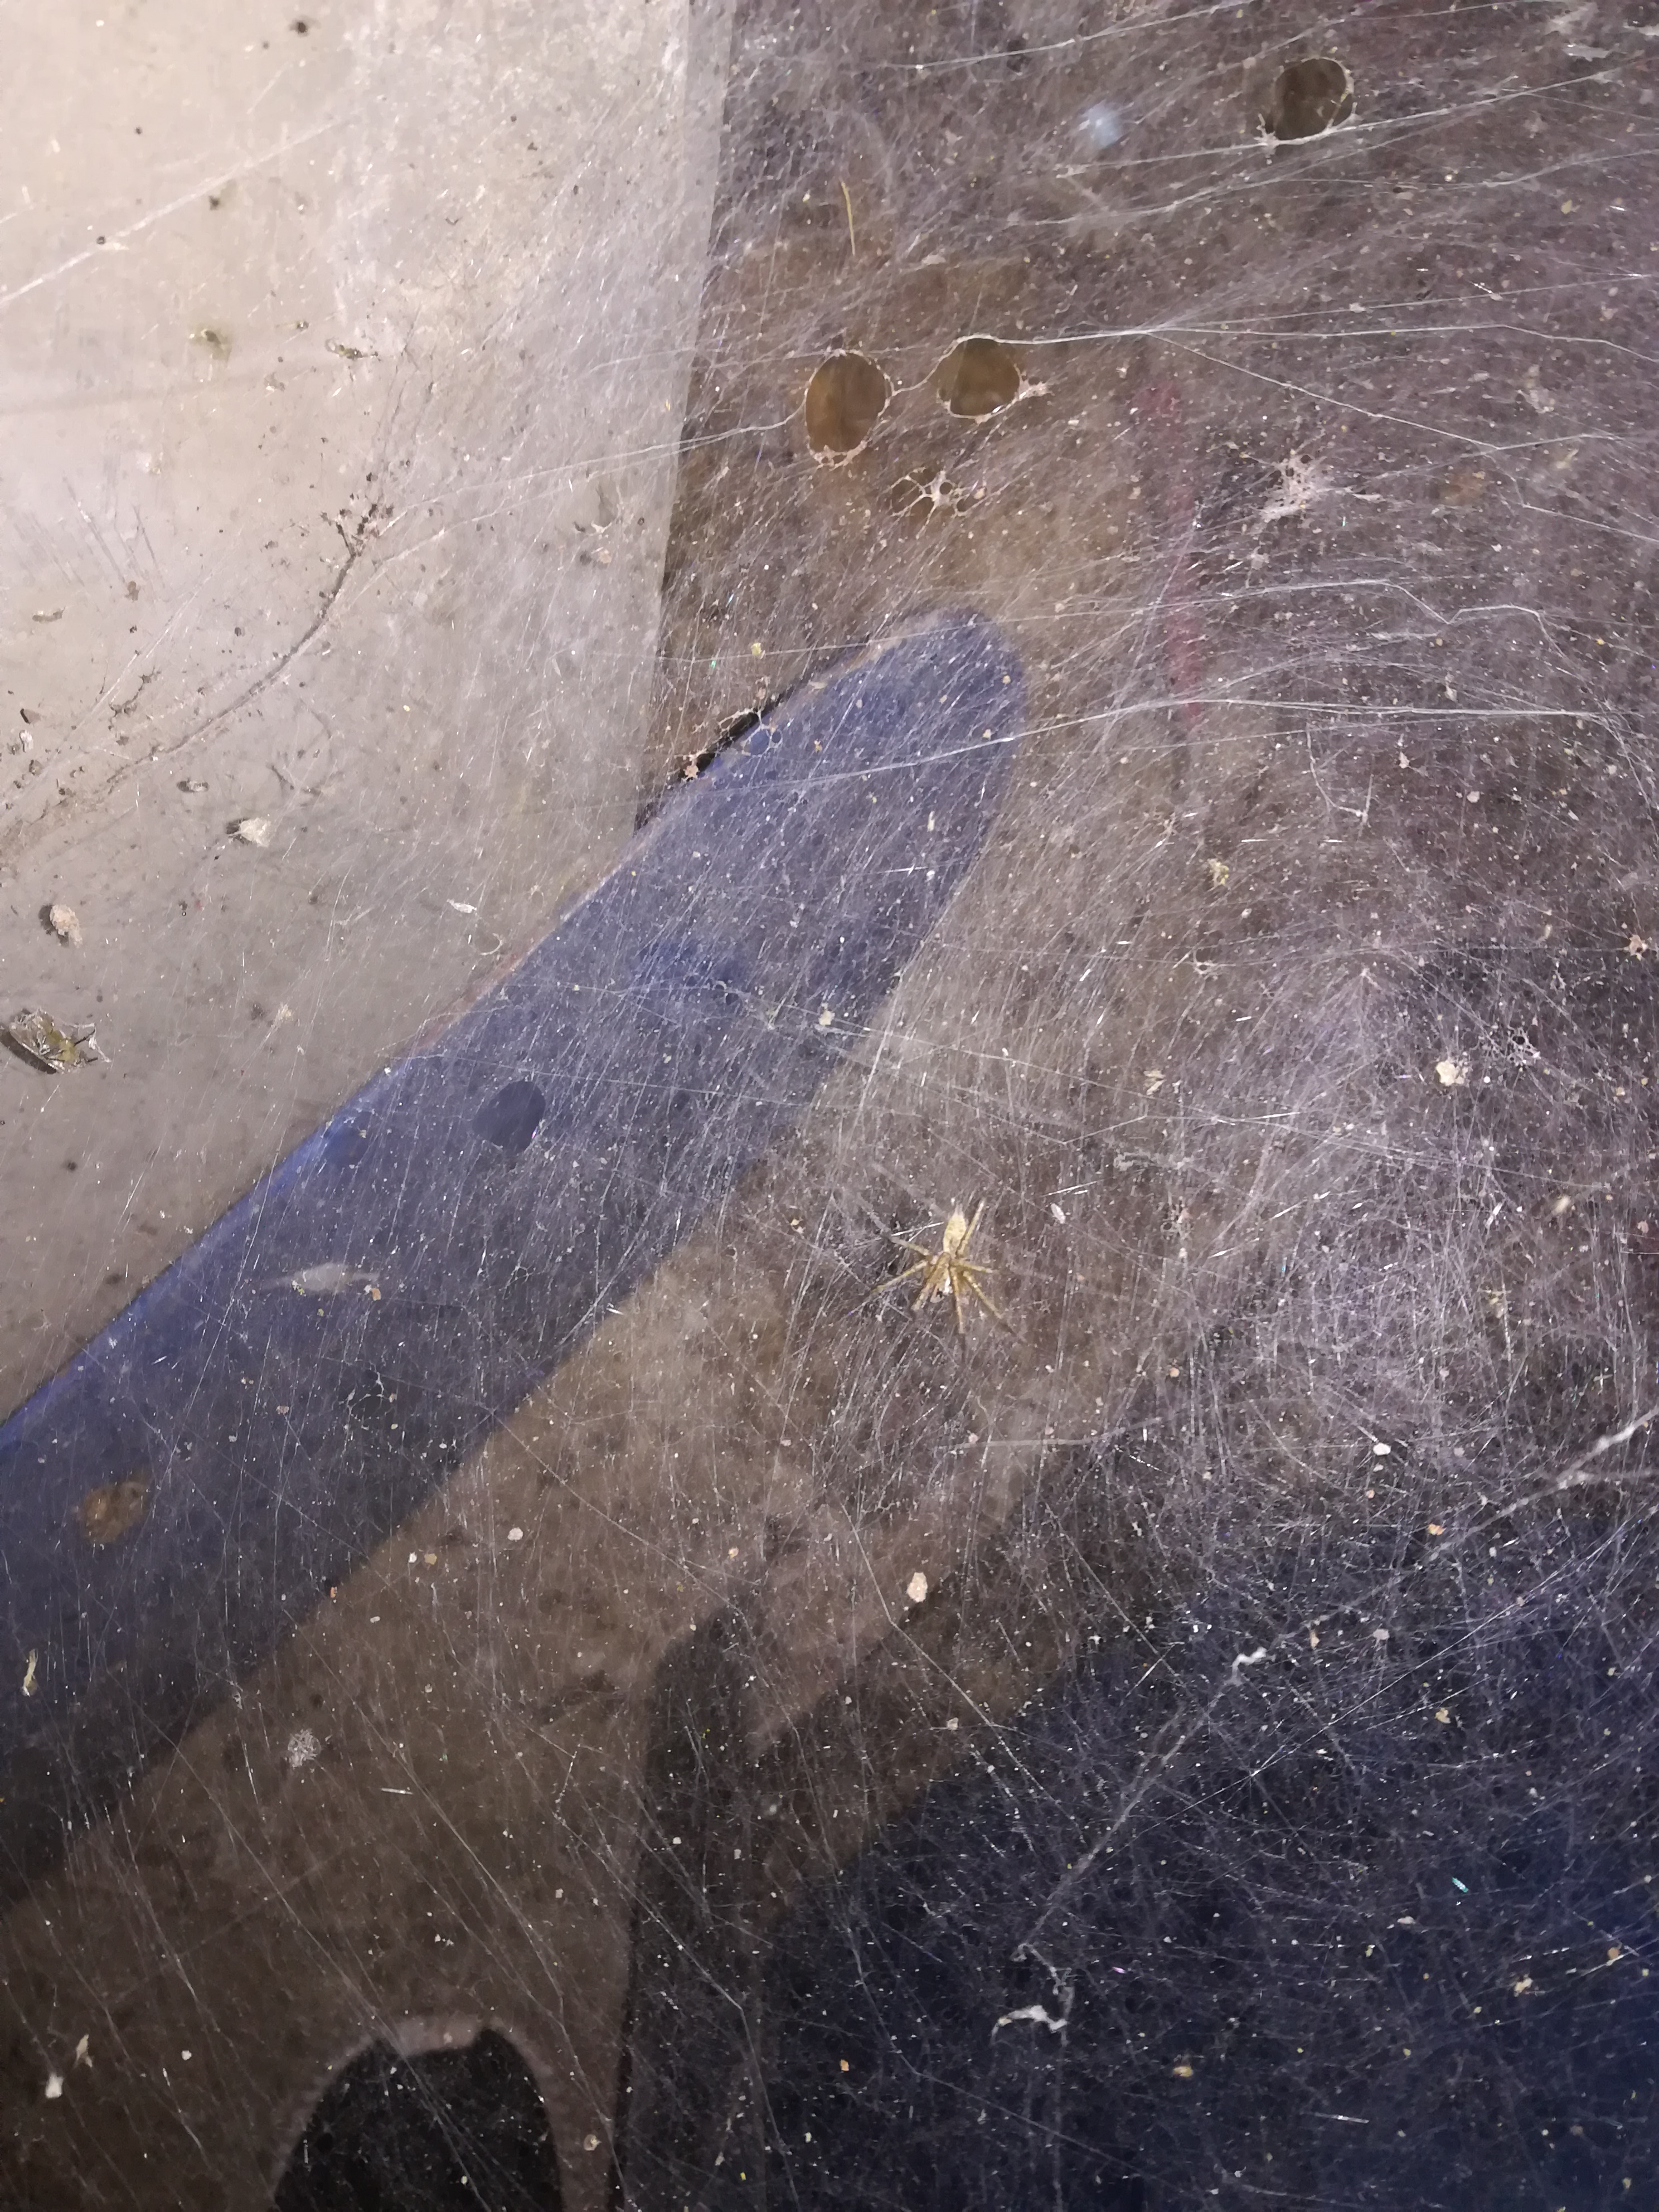spider: (836, 1158, 1040, 1348)
